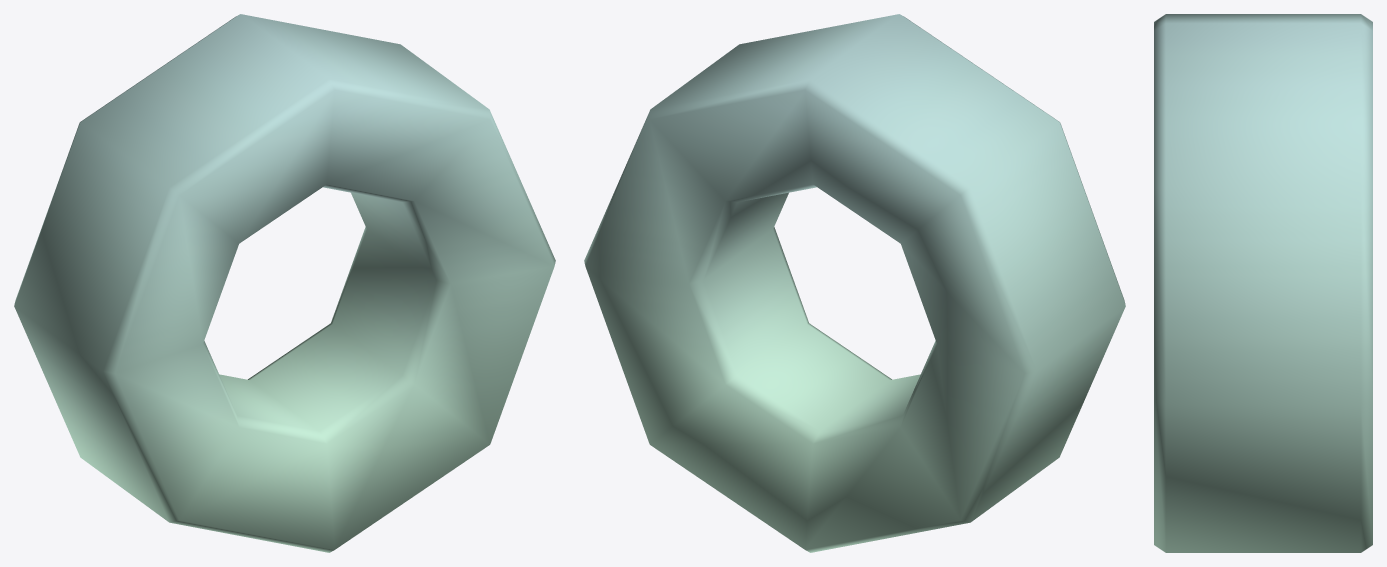
The model's file is screwnut.fbx.
3 views of the same model, side by side, from view 1: azimuth 30°, elevation 25°; view 2: azimuth 150°, elevation 25°; view 3: azimuth 270°, elevation 25° (orthographic). The views are drawn at different scales.
Visible parts, largest first — view 1: Cylinder.006; view 2: Cylinder.006; view 3: Cylinder.006.
Boxes of the visible parts, x1=… form: Cylinder.006: x1=14, y1=14, x2=555, y2=552; Cylinder.006: x1=584, y1=14, x2=1125, y2=552; Cylinder.006: x1=1154, y1=14, x2=1372, y2=552.
Size of the model in its own units: 749 by 749 by 286.
